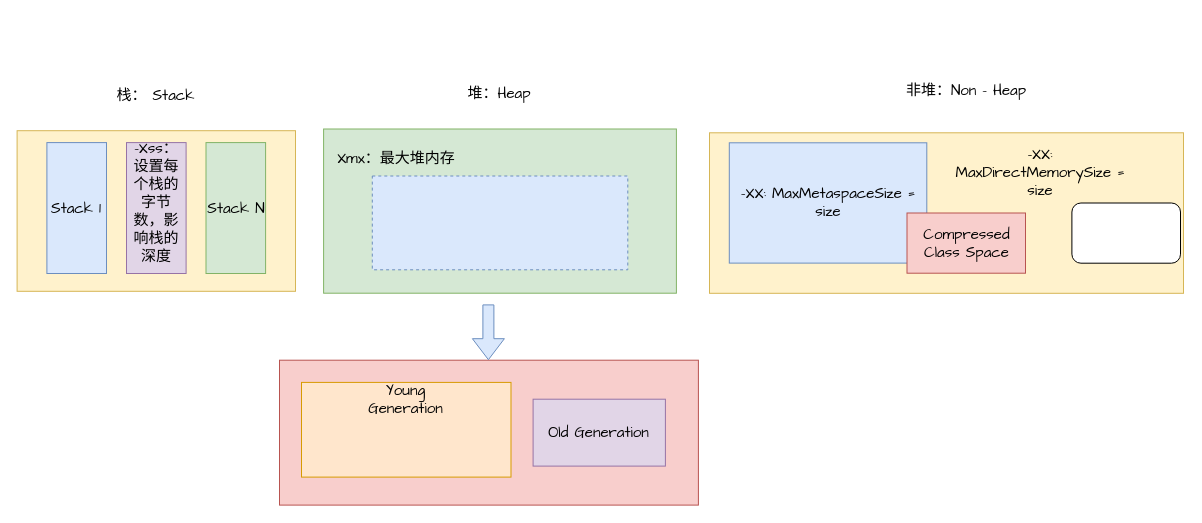
The diagram is 1202 pixels wide and 523 high, and some of its shapes have lost their labels. The box of each missing label's shape, as (x1, y1, x2, y2) in pixels:
Code Cache 存放JIT编译后的本地机器码: (1071, 202, 1180, 263)
Xmn：设置年轻代的大小，且初始大小等于最大大小: (300, 381, 511, 477)
Xms：指定堆内存的初始大小，但非操作系统分配的实际值: (371, 175, 628, 270)
